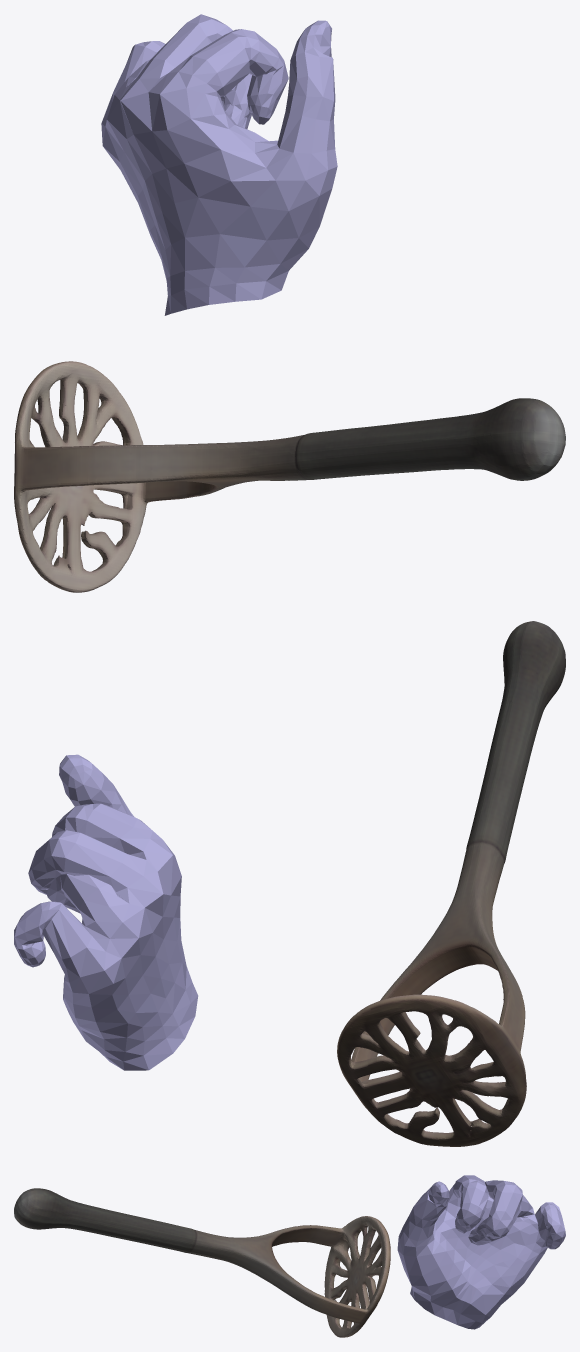
The model's file is frame_0081_source_000081_hand_object.glb.
3 views of the same model, one above another, from view 1: azimuth 30°, elevation 25°; view 2: azimuth 150°, elevation 25°; view 3: azimuth 270°, elevation 25° (orthographic). The views are drawn at different scales.
Visible parts, largest first — view 1: world; view 2: world; view 3: world.
Part boxes in pixels (x1=…): world: x1=14, y1=14, x2=565, y2=592; world: x1=14, y1=621, x2=565, y2=1146; world: x1=14, y1=1175, x2=565, y2=1337.
Bounding box in the file's own units: 0.1751 × 0.1698 × 0.3589.
